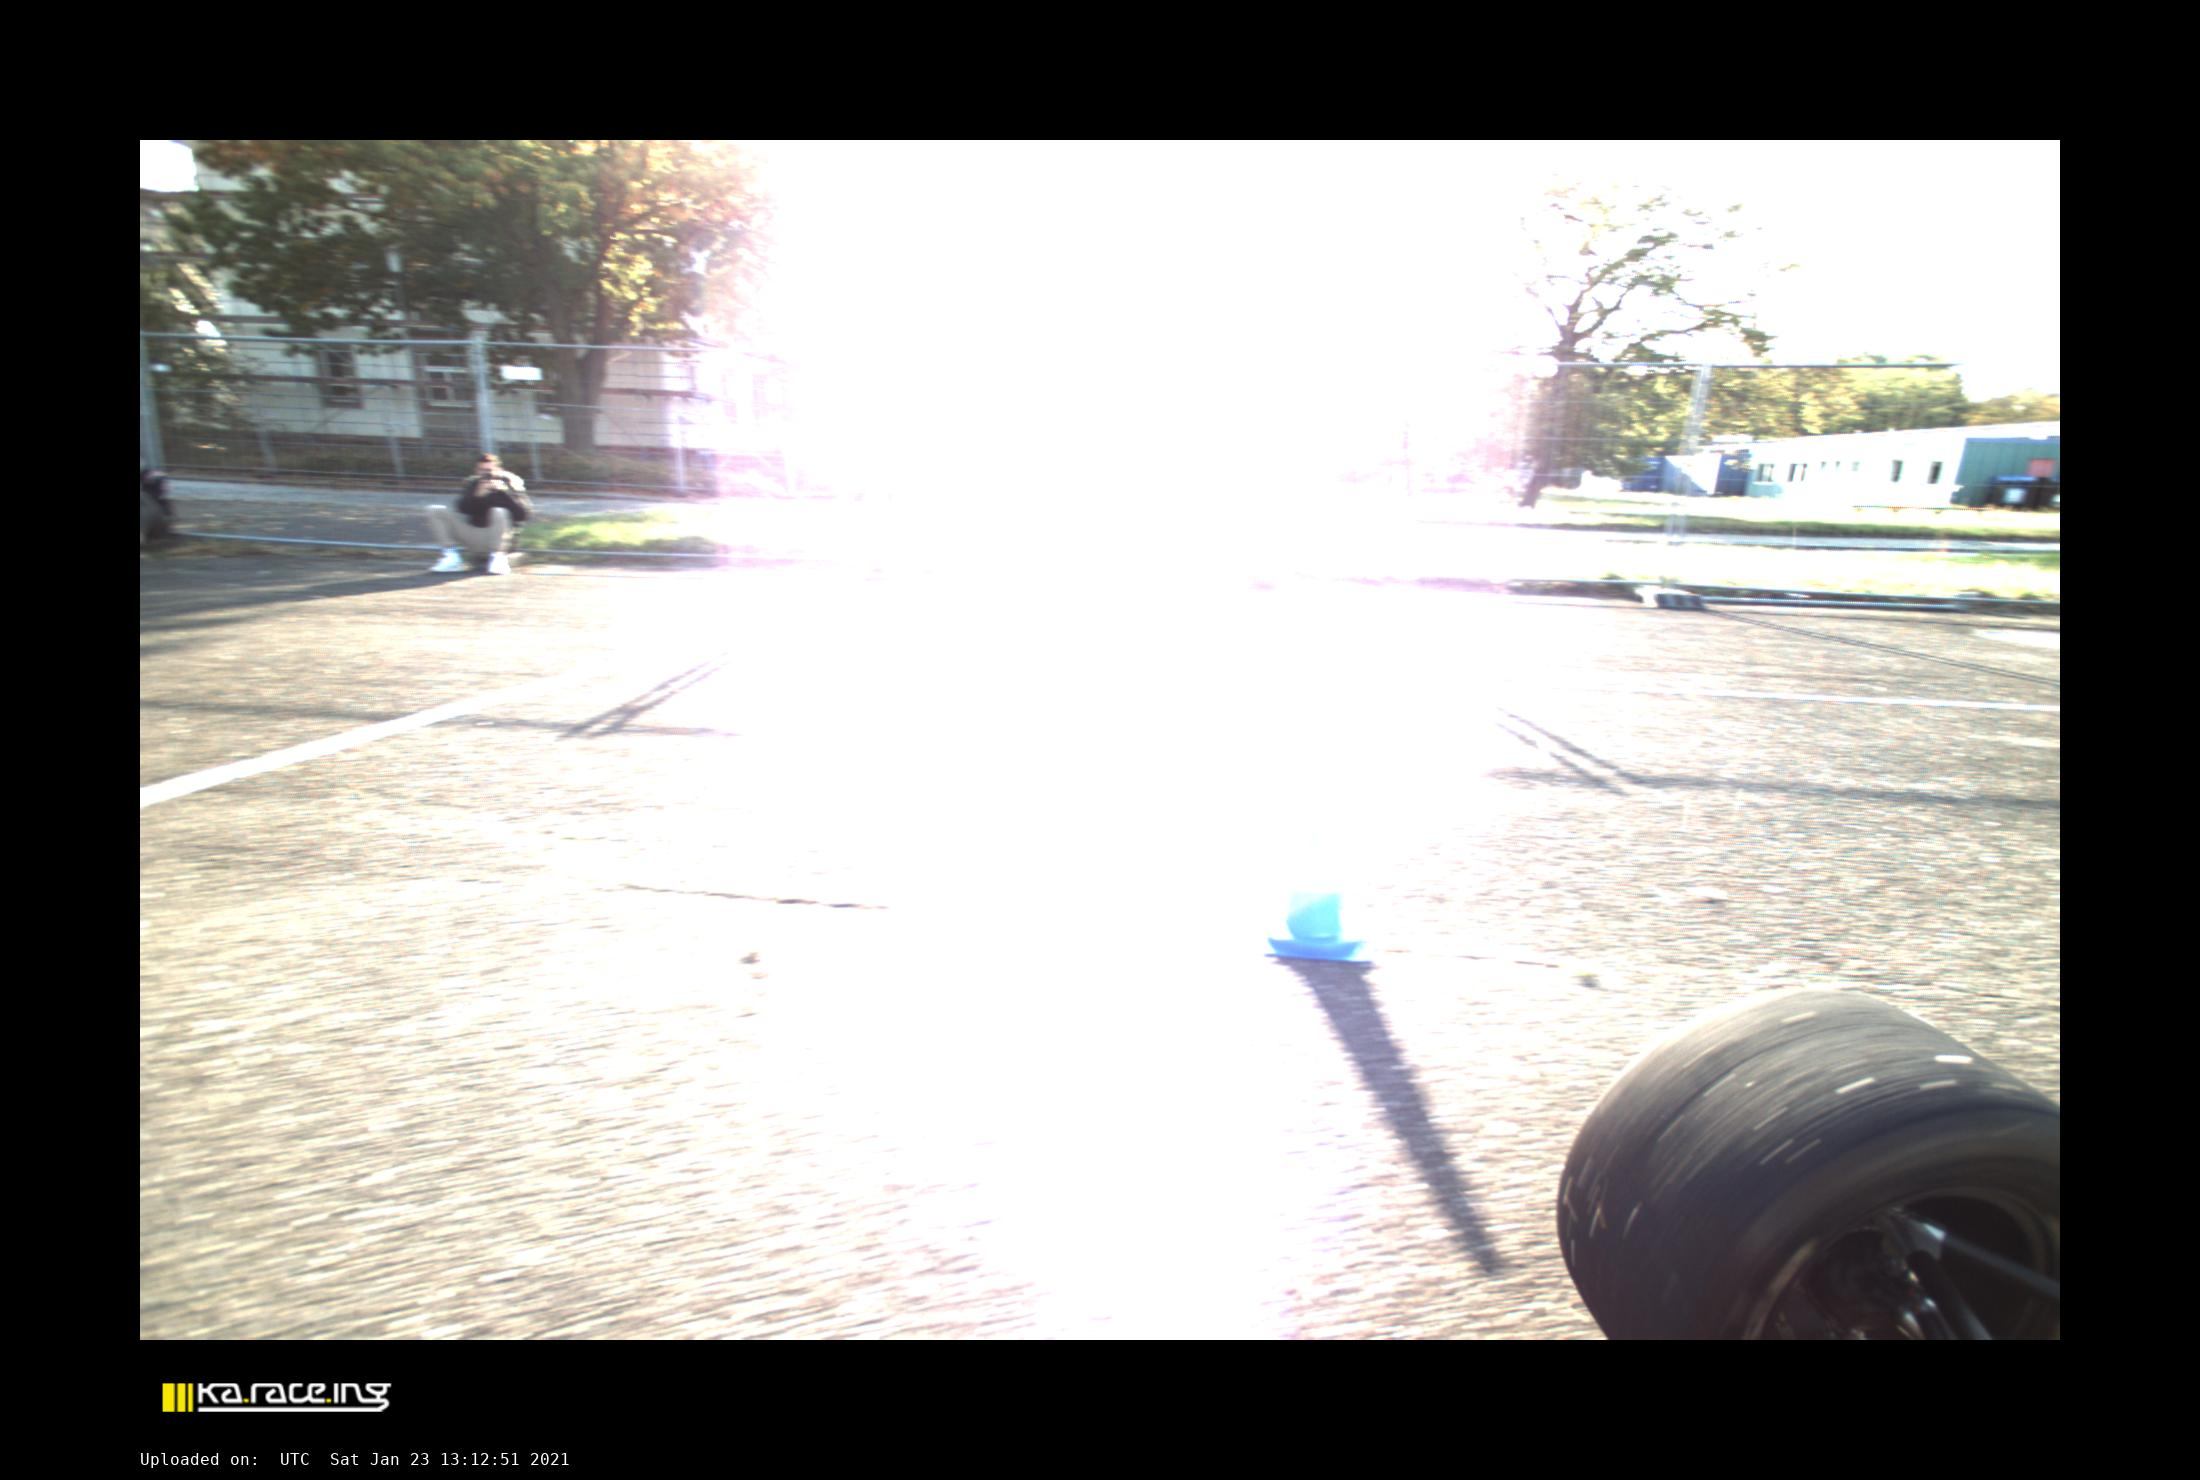blue_cone: (1259, 849, 1368, 963)
